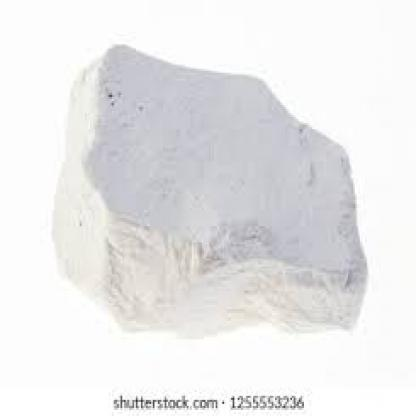Sedimentary_Chalk: (51, 31, 375, 344)
